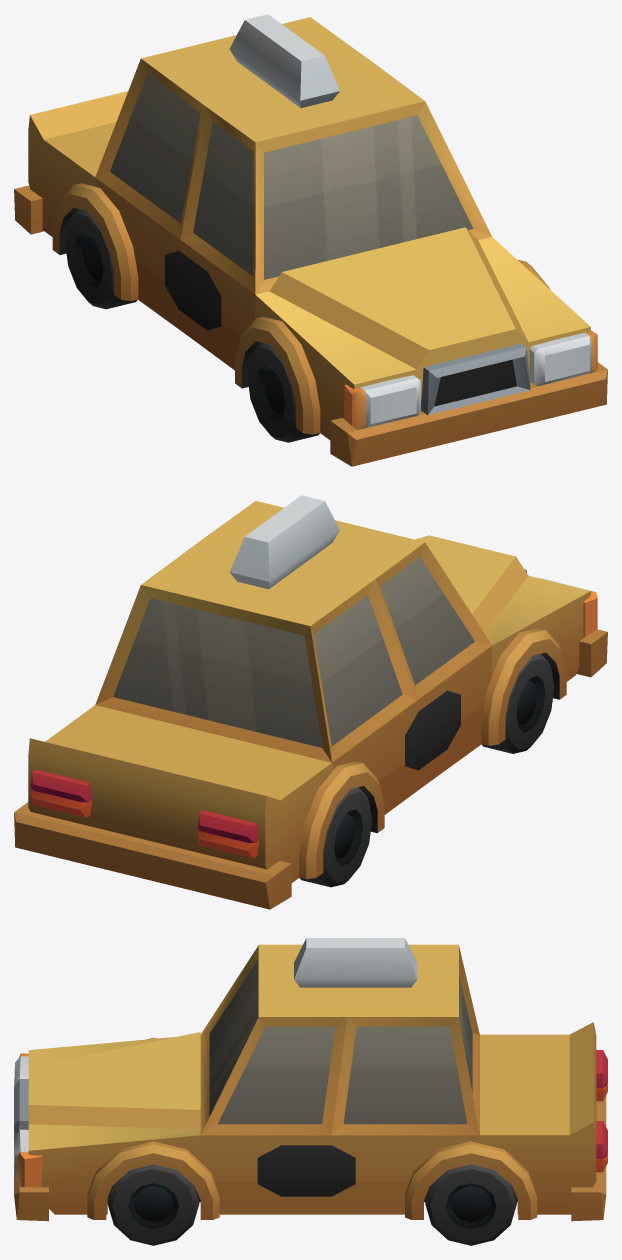
File: car_taxi.gltf
3 views of the same model, one above another, from view 1: azimuth 30°, elevation 25°; view 2: azimuth 150°, elevation 25°; view 3: azimuth 270°, elevation 25° (orthographic). The views are drawn at different scales.
Visible parts, largest first — view 1: car_taxi, car_taxi_wheel_rear_right, car_taxi_wheel_front_right; view 2: car_taxi, car_taxi_wheel_front_right, car_taxi_wheel_rear_right; view 3: car_taxi, car_taxi_wheel_front_left, car_taxi_wheel_rear_left.
Part boxes in pixels (<box>): car_taxi: <box>14,14,607,466</box>; car_taxi_wheel_rear_right: <box>65,209,137,309</box>; car_taxi_wheel_front_right: <box>247,342,319,442</box>; car_taxi: <box>14,495,607,909</box>; car_taxi_wheel_front_right: <box>482,653,554,753</box>; car_taxi_wheel_rear_right: <box>299,787,372,887</box>; car_taxi: <box>14,938,607,1221</box>; car_taxi_wheel_front_left: <box>107,1164,199,1245</box>; car_taxi_wheel_rear_left: <box>425,1164,516,1245</box>.
Size of the model in its own units: 0.419 by 0.4345 by 0.9381.
Materials: 1 (1 with a texture image).
